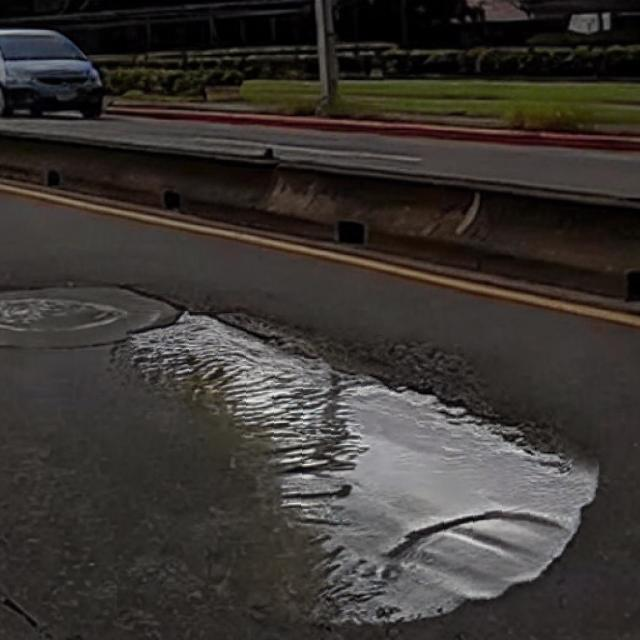puddle: (121, 314, 601, 633)
